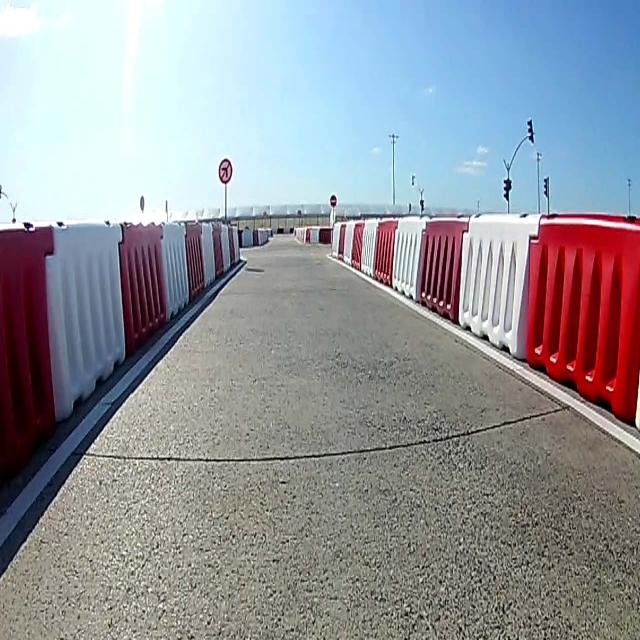girisyok: (330, 194, 337, 207)
soladonulmez: (218, 157, 232, 184)
